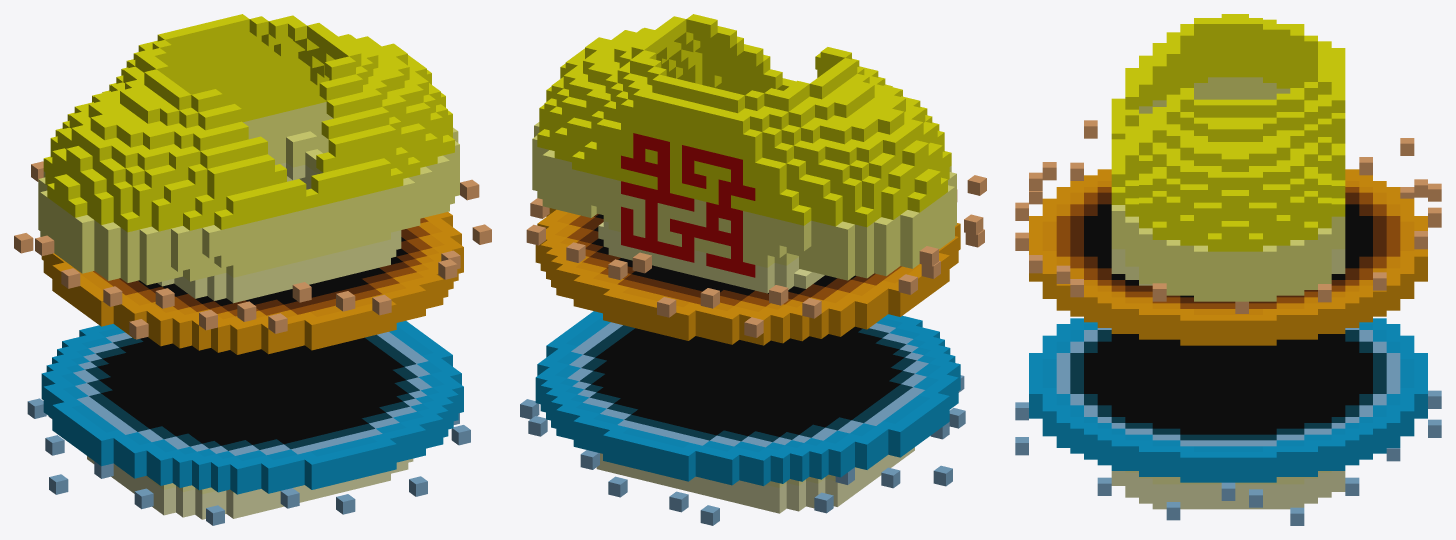
3 renders of one model, left to right at view 1: azimuth 30°, elevation 25°; view 2: azimuth 150°, elevation 25°; view 3: azimuth 270°, elevation 25°, orthographic. The views are drawn at different scales.
Size of the model in its own units: 1.6 by 1.55 by 1.55.
